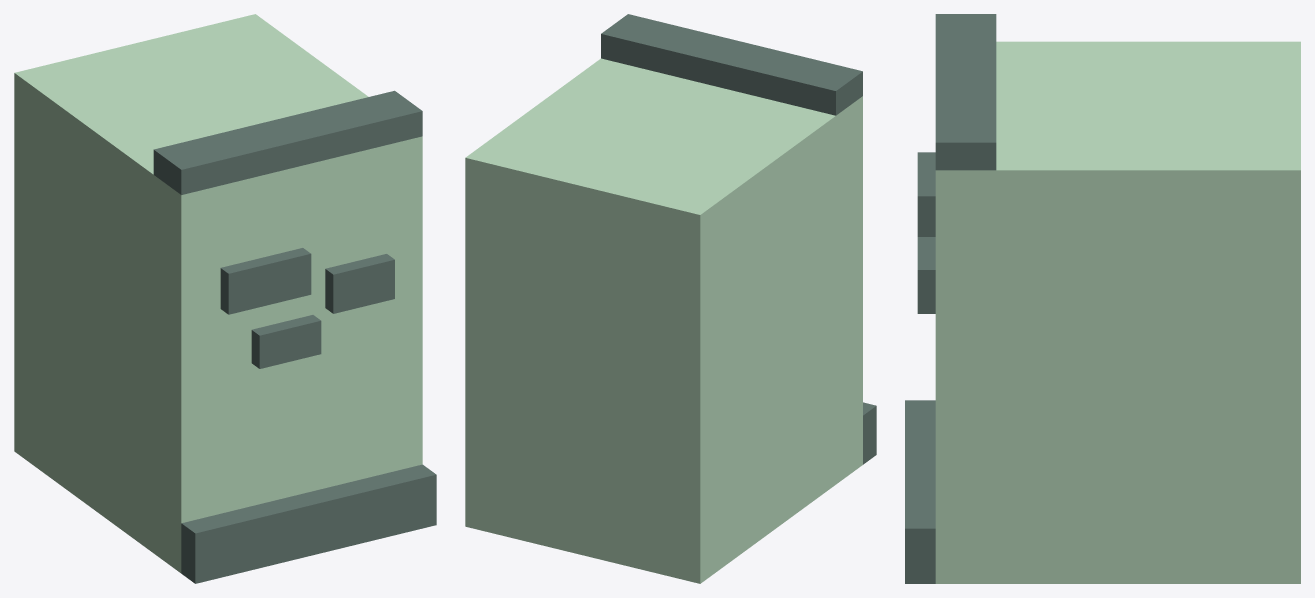
Rendered from Ground2.fbx.
3 renders of one model, left to right at view 1: azimuth 30°, elevation 25°; view 2: azimuth 150°, elevation 25°; view 3: azimuth 270°, elevation 25°, orthographic. The views are drawn at different scales.
Visible parts, largest first — view 1: Ground2; view 2: Ground2; view 3: Ground2.
Boxes of the visible parts, x1,y1,x2,y2 form: Ground2: (14, 14, 436, 583); Ground2: (465, 14, 876, 583); Ground2: (905, 14, 1300, 583).
Bounding box in the file's own units: 1 × 1.6 × 1.3.
